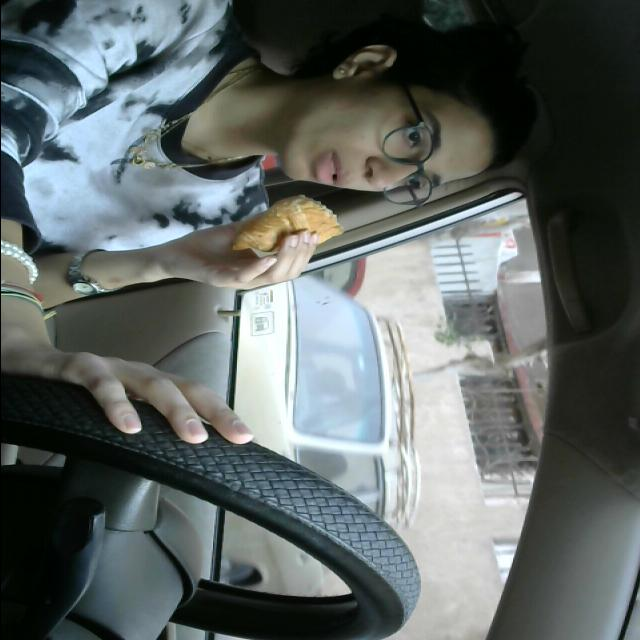eating: (232, 186, 368, 266)
